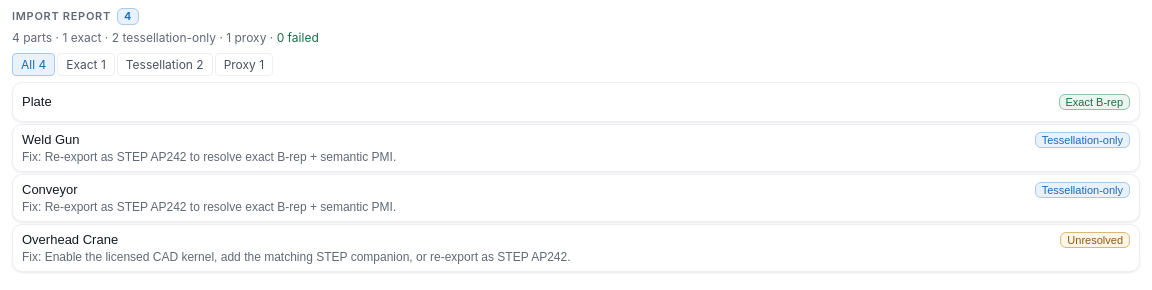
Scenario: renders the fidelity breakdown + every part, then filters to one honesty class
The image size is (1152, 290).
Check: the number of buttons with test id "import-row" is 4, box [12,82,1140,122]; [12,124,1140,172]; [12,174,1140,222]; [12,224,1140,272]
"Show tessellation-only parts": the filter chip narrows the list to exactly that class.
Click the button with test id "filter-tessellation-only" at (165, 64), box [117,53,213,76]
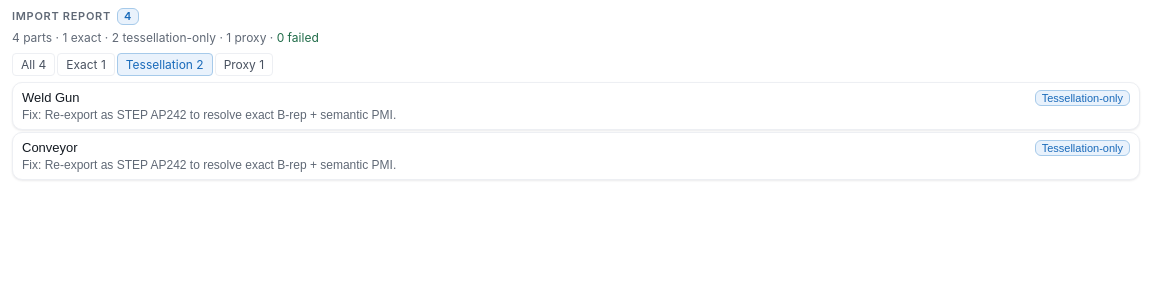
Check: the number of buttons with test id "import-row" is 2, box [12,82,1140,130]; [12,132,1140,180]
